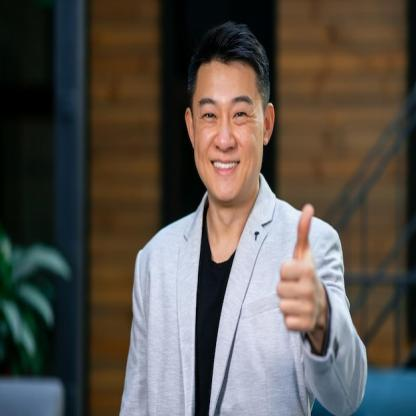thumb_up: (276, 202, 324, 335)
